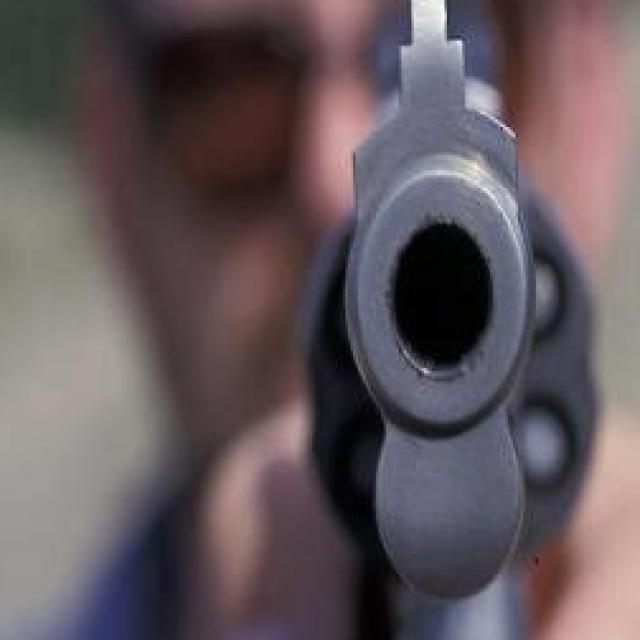pistol: (307, 0, 607, 640)
